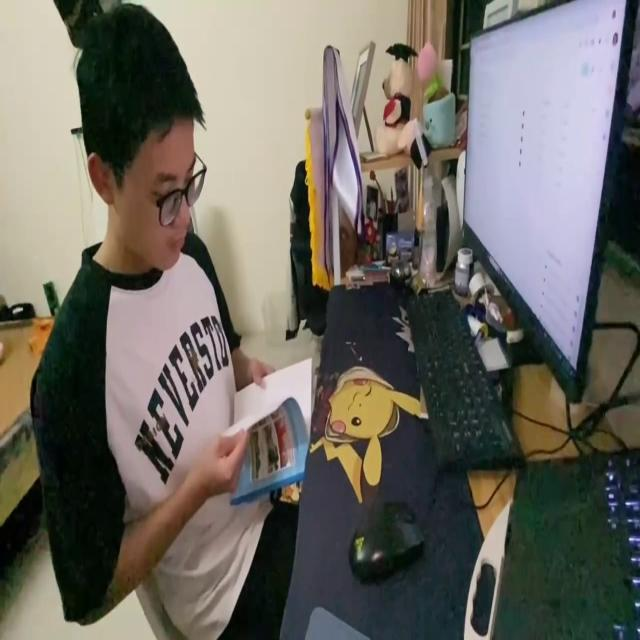book: (206, 352, 316, 506)
laptop: (461, 0, 640, 409)
student: (28, 0, 304, 640)
